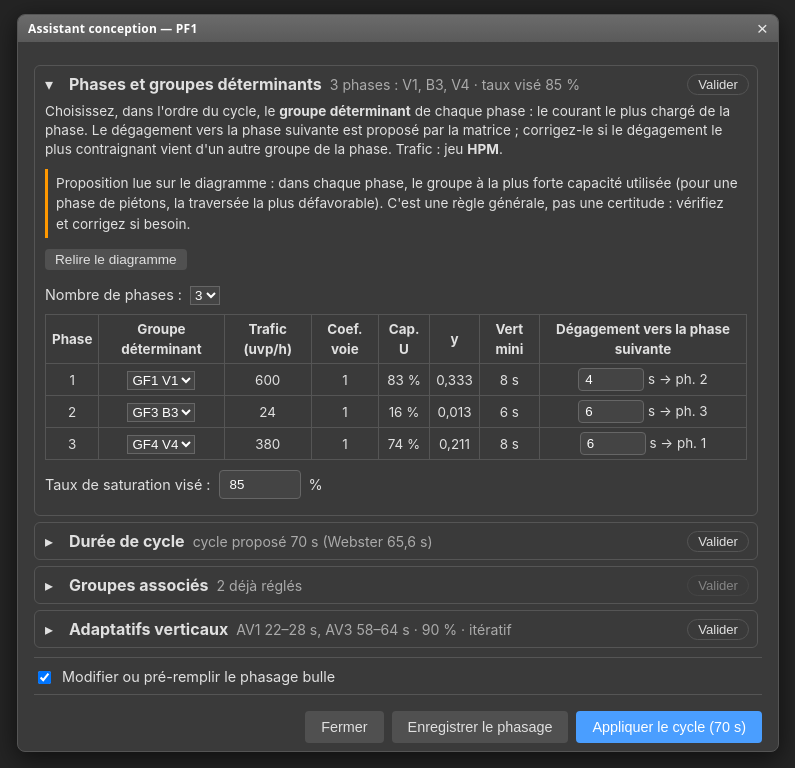
suggestion de durée du cycle › diagramme renseigné : chemin critique pré-rempli (plus forte capacité utilisée)
Click the button "▸ Durée de cycle cycle proposé 70 s (Webster 65,6 s)".
click(357, 541)  # box [35,523,679,559]
(page scrolled)
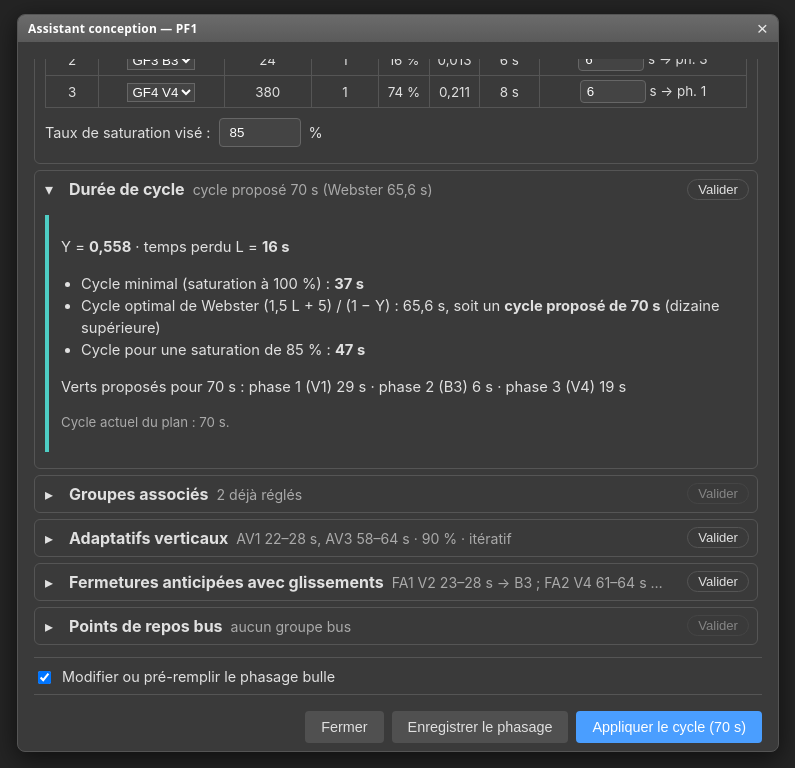
Click the button "▸ Groupes associés 2 déjà réglés".
click(139, 494)  # box [35,476,679,512]
(page scrolled)
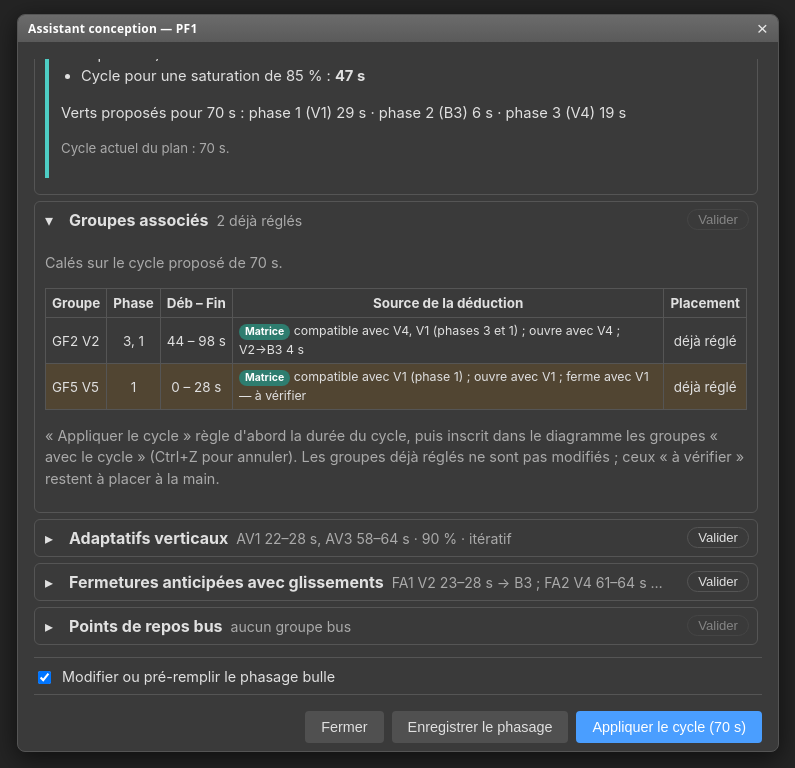
Click the button with aria-label "Déployer".
click(357, 538)  # box [35,520,679,556]
(page scrolled)
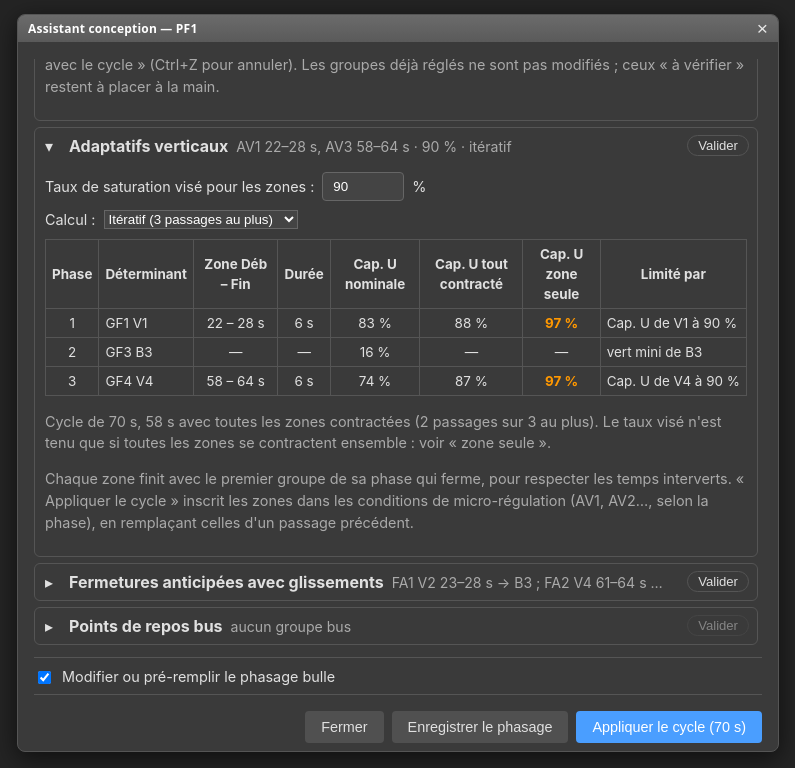
Click the button with aria-label "Déployer".
click(357, 582)  # box [35,564,679,600]
(page scrolled)
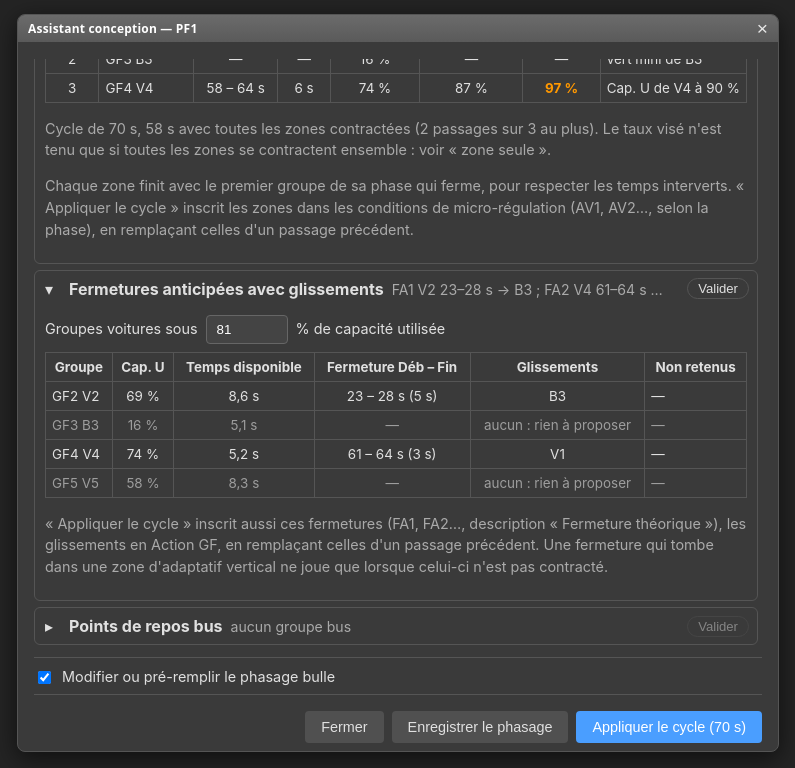
Click the button "▸ Points de repos bus aucun groupe bus".
click(146, 626)  # box [35,608,679,644]
(page scrolled)
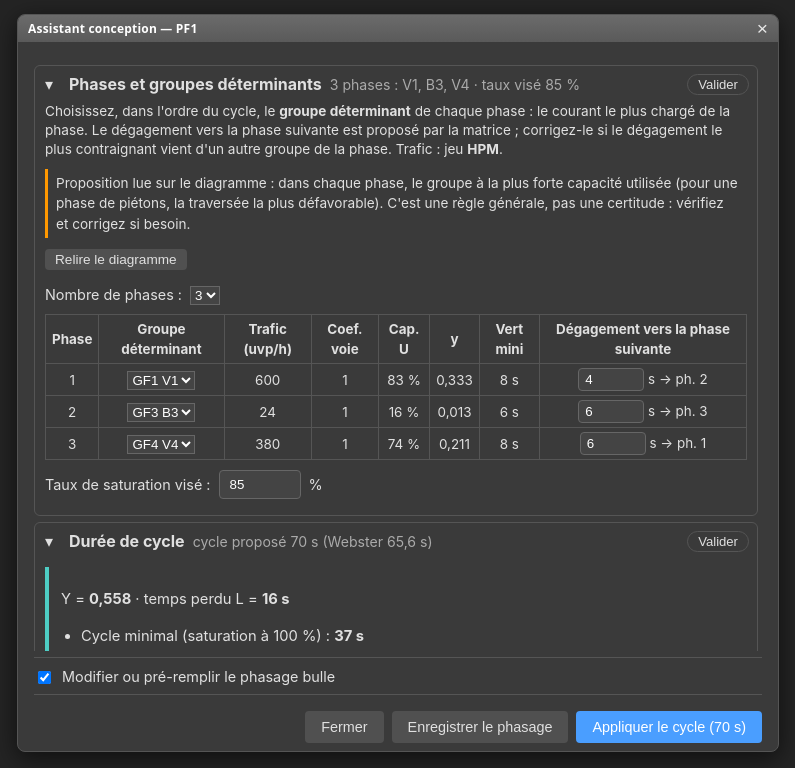
Now the text "Proposition lue sur le diagramme" is shown, box [56,175,738,232]
Now the dropdown named "Groupe déterminant de la phase 1" shows "GF1 V1", box [128,371,196,390]
Now the dropdown named "Groupe déterminant de la phase 2" shows "GF3 B3", box [128,403,196,422]
